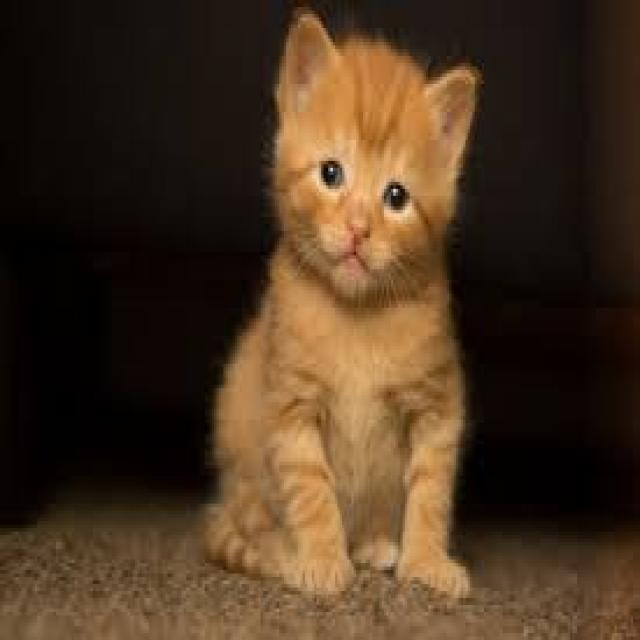Cat: (195, 9, 484, 607)
